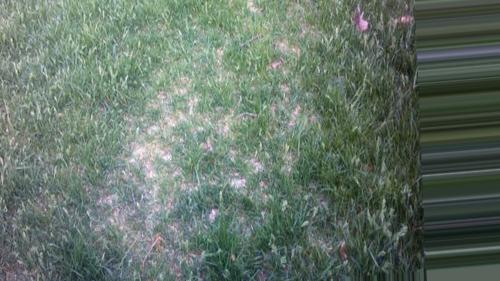patch: (99, 47, 245, 215), (275, 107, 315, 136)
